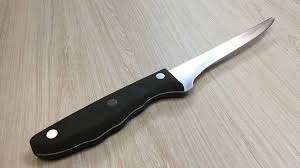knife: (28, 13, 280, 161)
